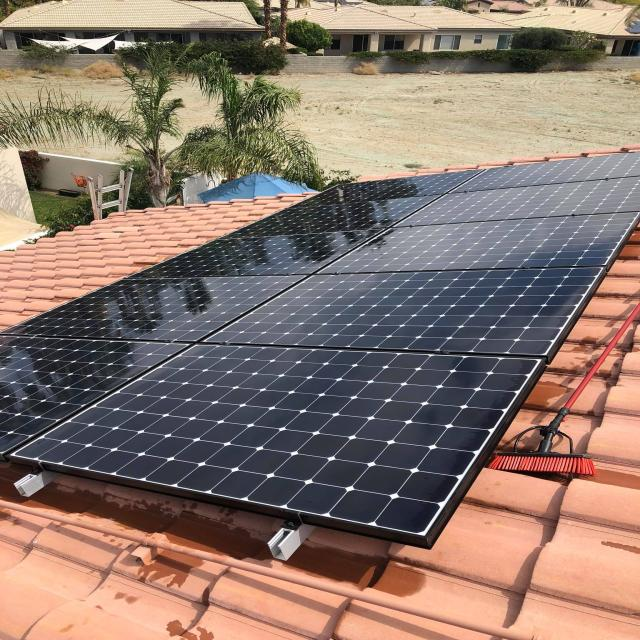clean-solar-panel: (2, 152, 638, 546)
